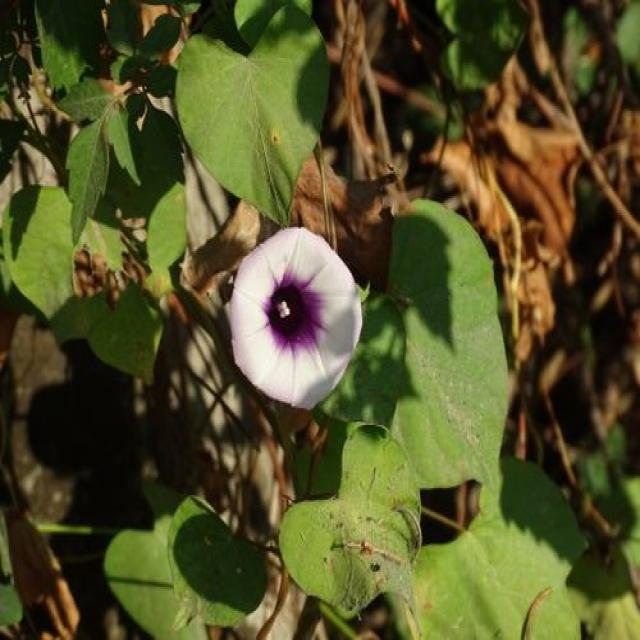ipomoea: (224, 222, 366, 415)
